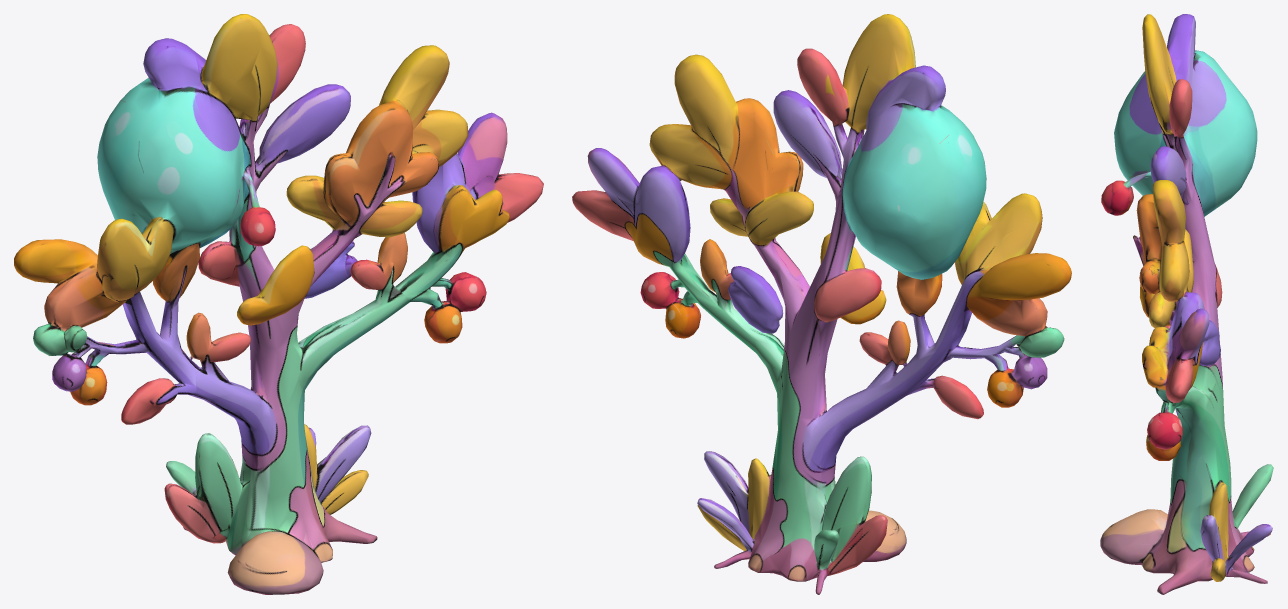
File: static.glb
3 views of the same model, side by side, from view 1: azimuth 30°, elevation 25°; view 2: azimuth 150°, elevation 25°; view 3: azimuth 270°, elevation 25° (orthographic). The views are drawn at different scales.
Parts seen in each view (by area): view 1: Mesh_0; view 2: Mesh_0; view 3: Mesh_0.
Part boxes in pixels (left/top/right/bottom): Mesh_0: left=14, top=14, right=543, bottom=594; Mesh_0: left=572, top=14, right=1071, bottom=594; Mesh_0: left=1100, top=14, right=1273, bottom=594.
Bounding box in the file's own units: 1.84 × 1.9 × 0.5757.
Materials: 1 (1 with a texture image).
